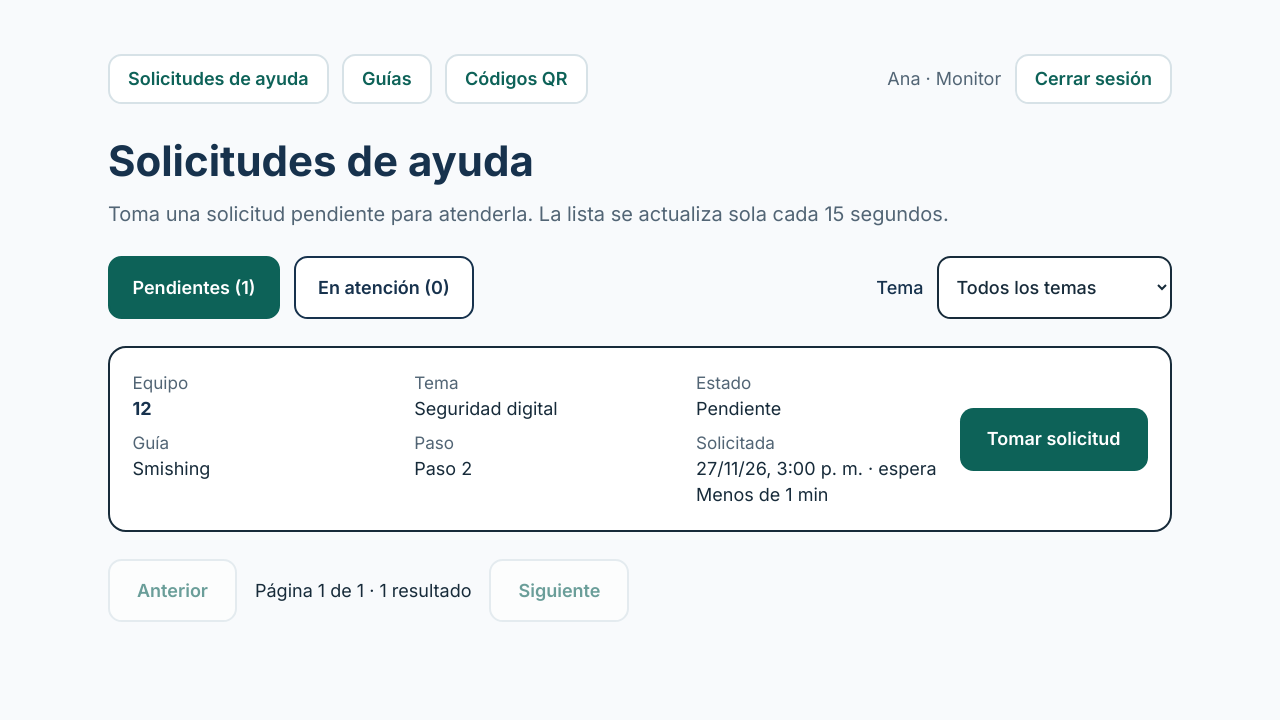
Test: ColaSolicitudesPage › tomar solicitud › timeout tras el POST: resultado incierto, no reenvía y consulta el estado
Step 1. Click the button "Tomar solicitud" → point(1054, 439), box left=960, top=408, right=1148, bottom=471
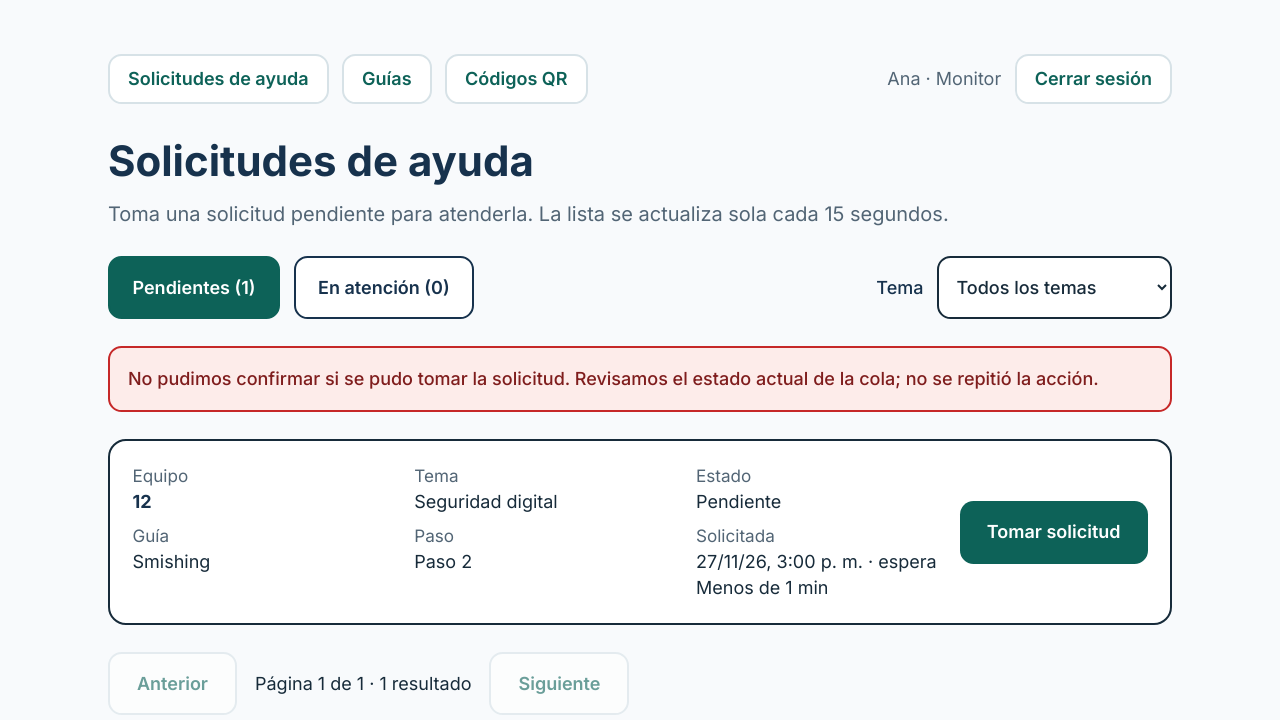
Result: the message shows "No pudimos confirmar" at left=128, top=368, right=1099, bottom=389
